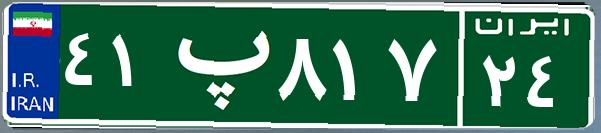1: (330, 28, 385, 110), (110, 28, 158, 105)
2: (475, 38, 525, 113)
4: (57, 26, 110, 107), (525, 38, 570, 115)
7: (385, 28, 445, 110)
8: (273, 28, 330, 110)
پ: (158, 15, 273, 115)
